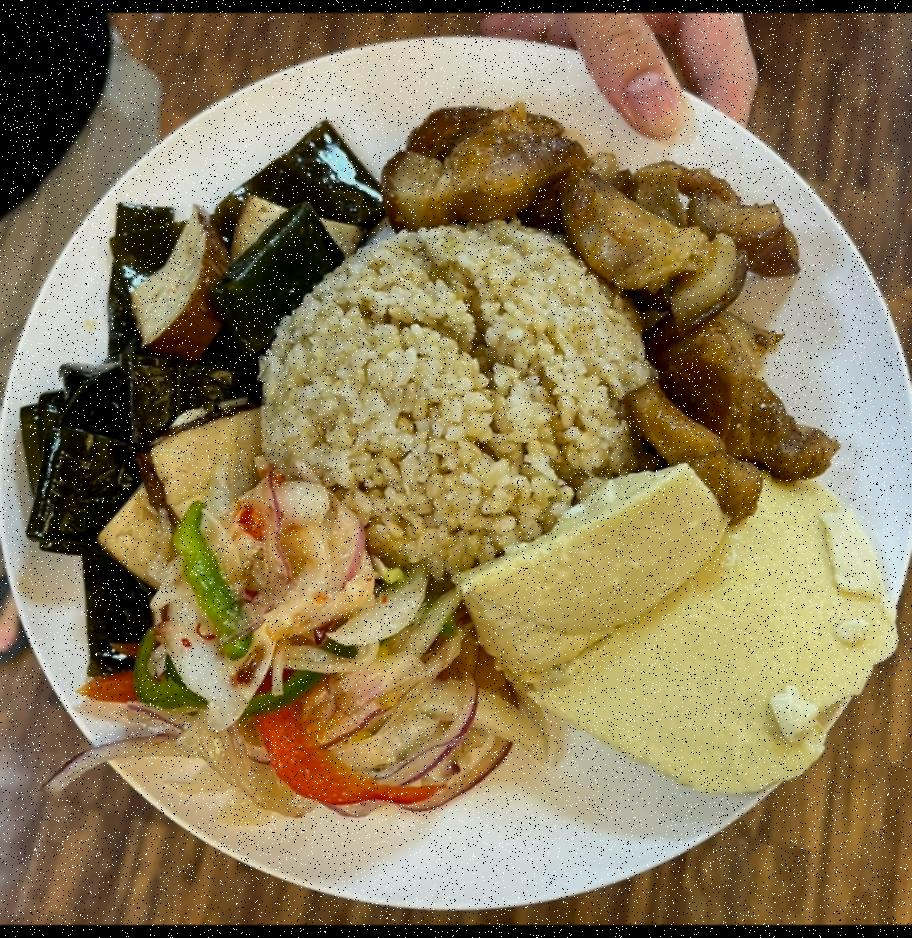big fried chicken leg: (0, 36, 912, 915)
box: (262, 220, 648, 570)
braised fish fillet: (19, 125, 386, 676), (452, 458, 910, 807), (144, 472, 530, 848)
braised pork: (384, 104, 838, 509)
